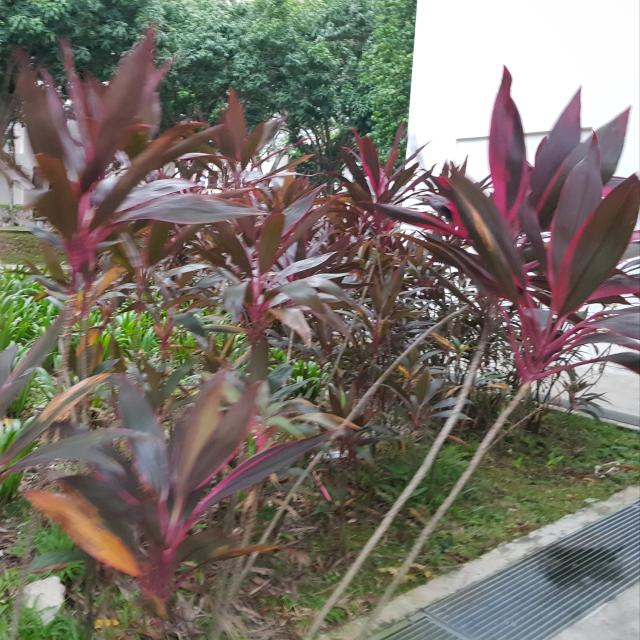Ti: (386, 72, 640, 417), (20, 324, 302, 633), (20, 31, 260, 277)
